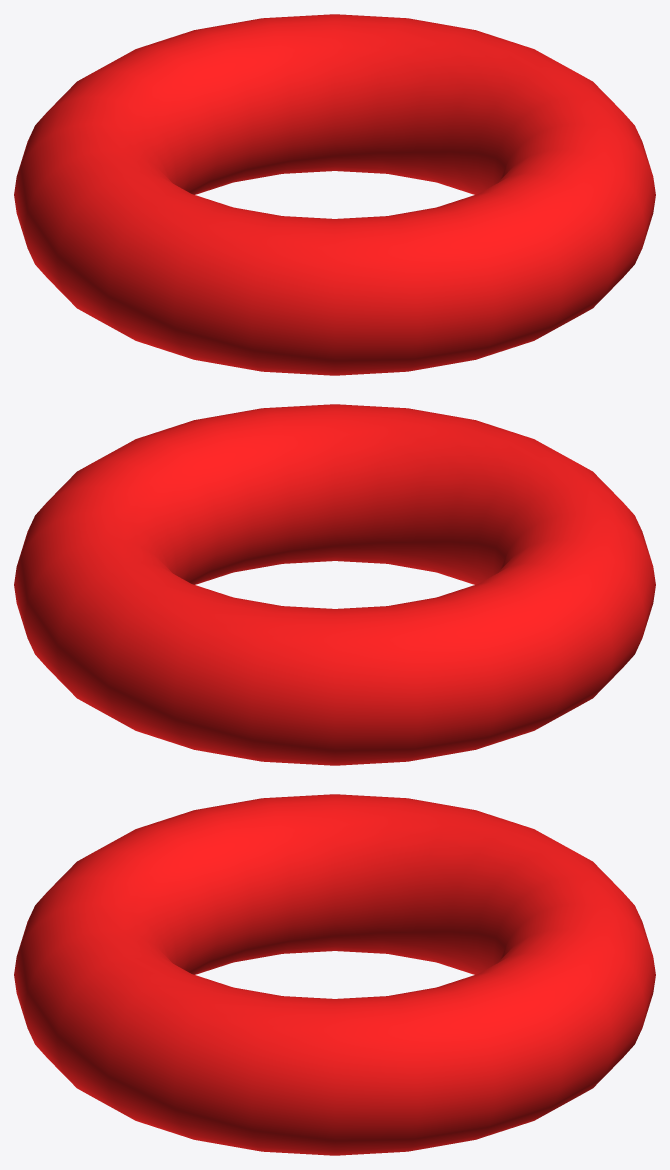
File: anillorojop.obj
3 renders of one model, top to bottom at view 1: azimuth 30°, elevation 25°; view 2: azimuth 150°, elevation 25°; view 3: azimuth 270°, elevation 25°, orthographic.
Visible parts, largest first — view 1: anillovrojo; view 2: anillovrojo; view 3: anillovrojo.
Part boxes in pixels (x1,y1,x2,y2): anillovrojo: [14, 14, 655, 375]; anillovrojo: [14, 404, 655, 765]; anillovrojo: [14, 794, 655, 1155].
Bounding box in the file's own units: 1.13 × 0.2761 × 1.13.
1 material, 1 textured.
